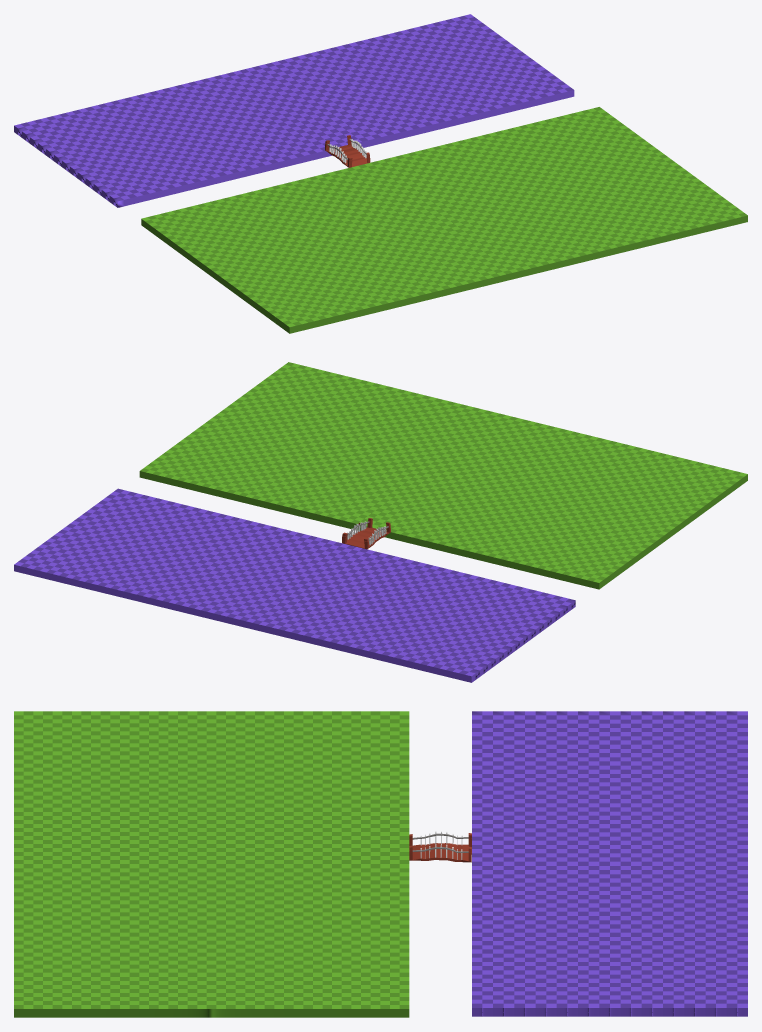
File: GameArea.fbx
3 views of the same model, one above another, from view 1: azimuth 30°, elevation 25°; view 2: azimuth 150°, elevation 25°; view 3: azimuth 270°, elevation 25° (orthographic). The views are drawn at different scales.
Parts seen in each view (by area): view 1: Tarla, GelisimAlani, Köprü; view 2: Tarla, GelisimAlani, Köprü; view 3: Tarla, GelisimAlani, Köprü.
Boxes of the visible parts, x1,y1,x2,y2 form: Tarla: (141,107,747,333); GelisimAlani: (14,14,574,207); Köprü: (325,135,370,167); Tarla: (139,362,747,589); GelisimAlani: (14,488,575,682); Köprü: (342,518,390,549); Tarla: (14,711,409,1017); GelisimAlani: (472,711,747,1016); Köprü: (409,831,471,862).
Bounding box in the file's own units: 7309 × 278 × 7614.
